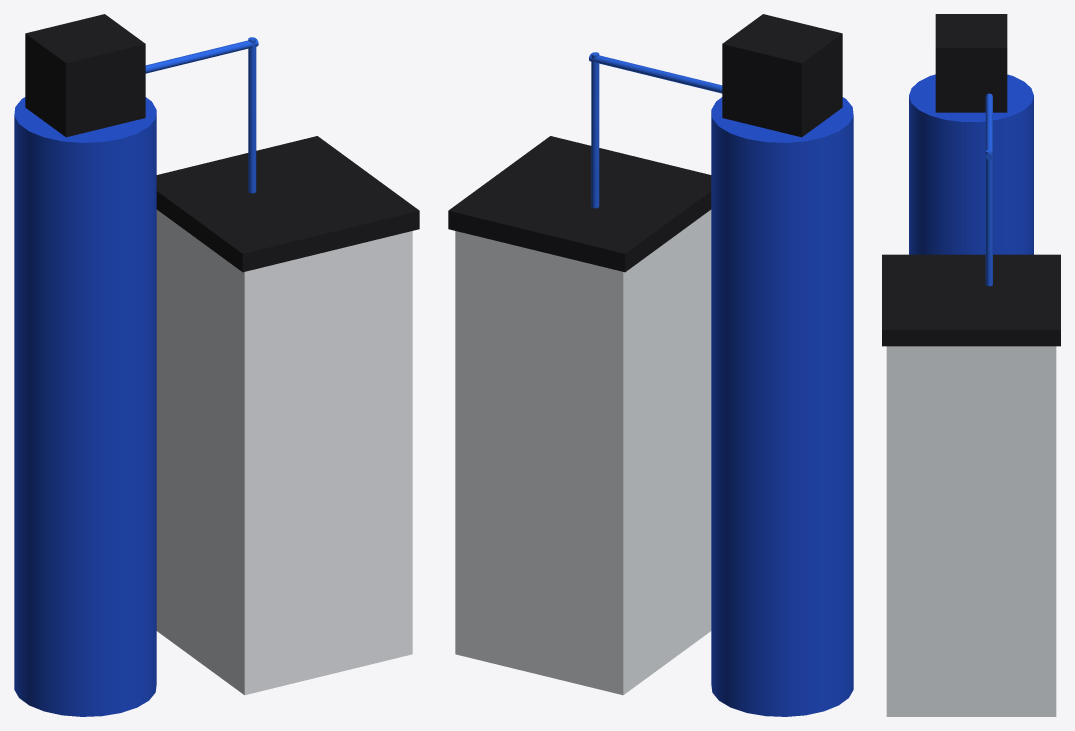
Rendered from whole-house-water-softener.glb.
3 views of the same model, side by side, from view 1: azimuth 30°, elevation 25°; view 2: azimuth 150°, elevation 25°; view 3: azimuth 270°, elevation 25° (orthographic). The views are drawn at different scales.
Visible parts, largest first — view 1: plumbing-equipment-water-softener; view 2: plumbing-equipment-water-softener; view 3: plumbing-equipment-water-softener.
Boxes of the visible parts, x1,y1,x2,y2 form: plumbing-equipment-water-softener: (14, 14, 419, 716); plumbing-equipment-water-softener: (448, 14, 853, 716); plumbing-equipment-water-softener: (882, 14, 1060, 716).
Bounding box in the file's own units: 0.7786 × 1.4 × 0.4.
